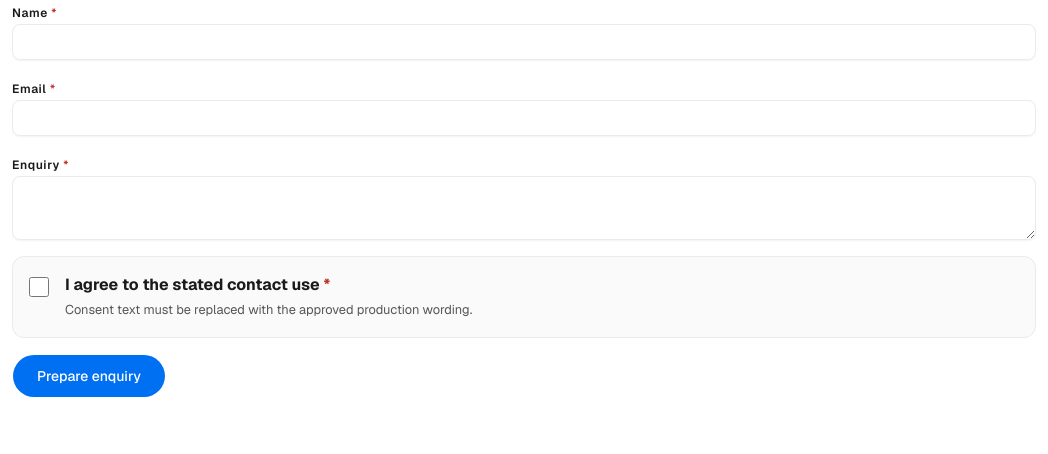
Test: ContactEnquiryForm › blocks submission until all required fields and consent are set
Click the button "Prepare enquiry".
click(89, 376)  # box [12, 354, 166, 398]
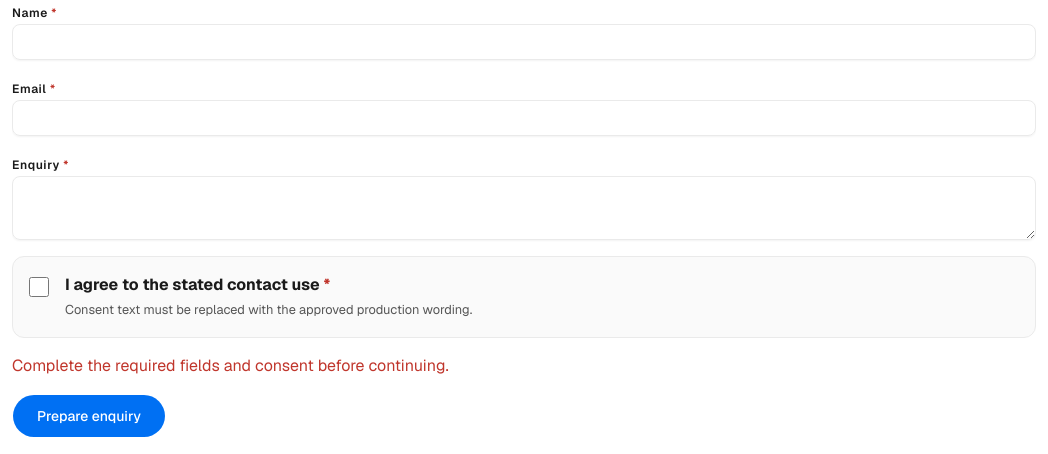
Expected: the message shows "Complete the required fields", [12, 355, 449, 376]
